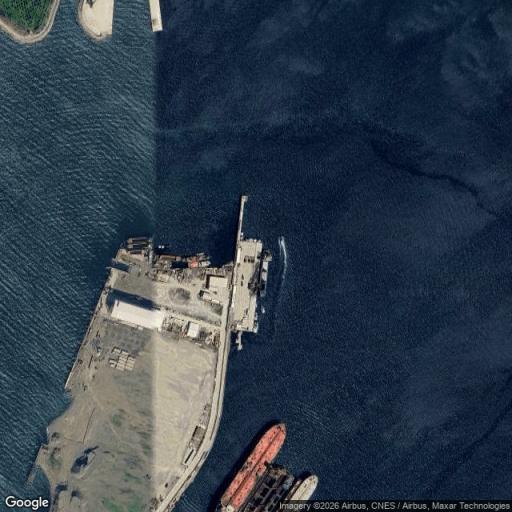ship: (215, 424, 286, 510), (289, 474, 319, 501), (259, 248, 273, 297), (127, 237, 153, 243), (186, 255, 212, 261), (187, 261, 212, 267), (160, 256, 184, 262), (127, 244, 152, 249), (128, 250, 148, 255), (260, 304, 266, 315), (253, 323, 258, 333), (246, 238, 253, 242), (254, 313, 258, 320), (192, 253, 205, 255), (240, 233, 243, 241), (254, 239, 257, 242), (258, 238, 261, 241)
